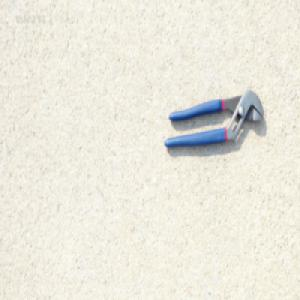Pliers: (163, 89, 264, 149)
